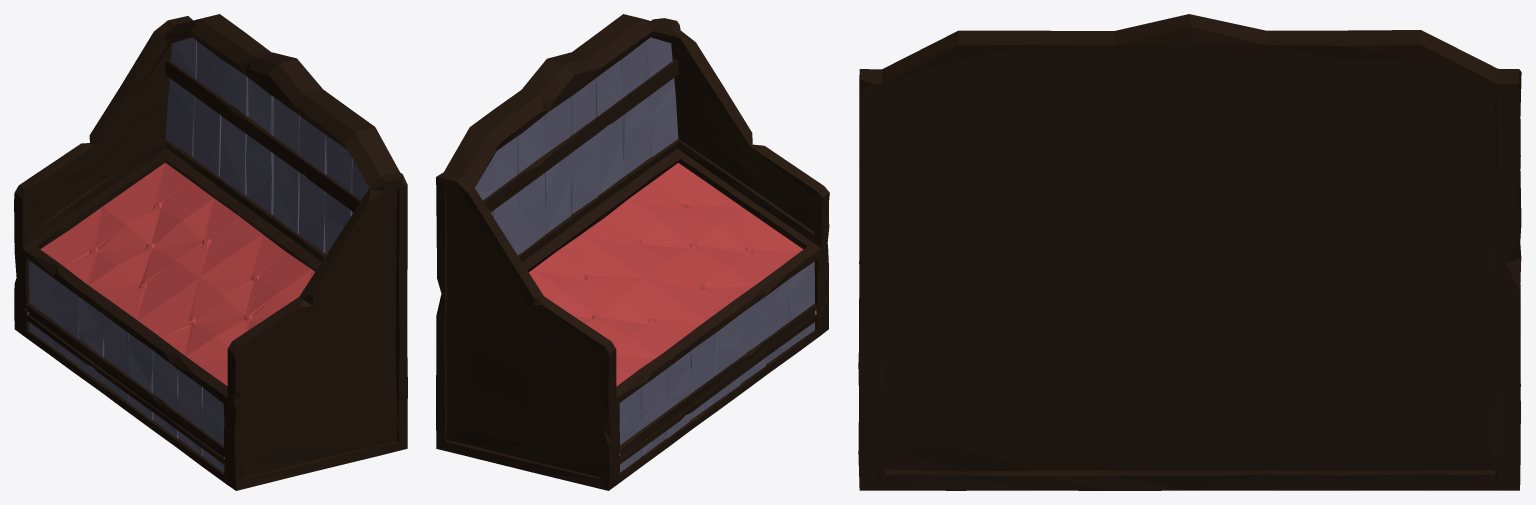
Rendered from SFFA_Weapon_Stand_003.fbx.
The picture shows the model from 3 angles, left to right: view 1: azimuth 30°, elevation 25°; view 2: azimuth 150°, elevation 25°; view 3: azimuth 270°, elevation 25°; orthographic projection. The views are drawn at different scales.
Visible parts, largest first — view 1: SFFA_Weapon_Stand_003; view 2: SFFA_Weapon_Stand_003; view 3: SFFA_Weapon_Stand_003.
Boxes of the visible parts, bbox=[...] form: SFFA_Weapon_Stand_003: bbox=[14, 14, 407, 490]; SFFA_Weapon_Stand_003: bbox=[436, 14, 829, 490]; SFFA_Weapon_Stand_003: bbox=[858, 14, 1521, 490].
Bounding box in the file's own units: 112 × 190 × 247.
